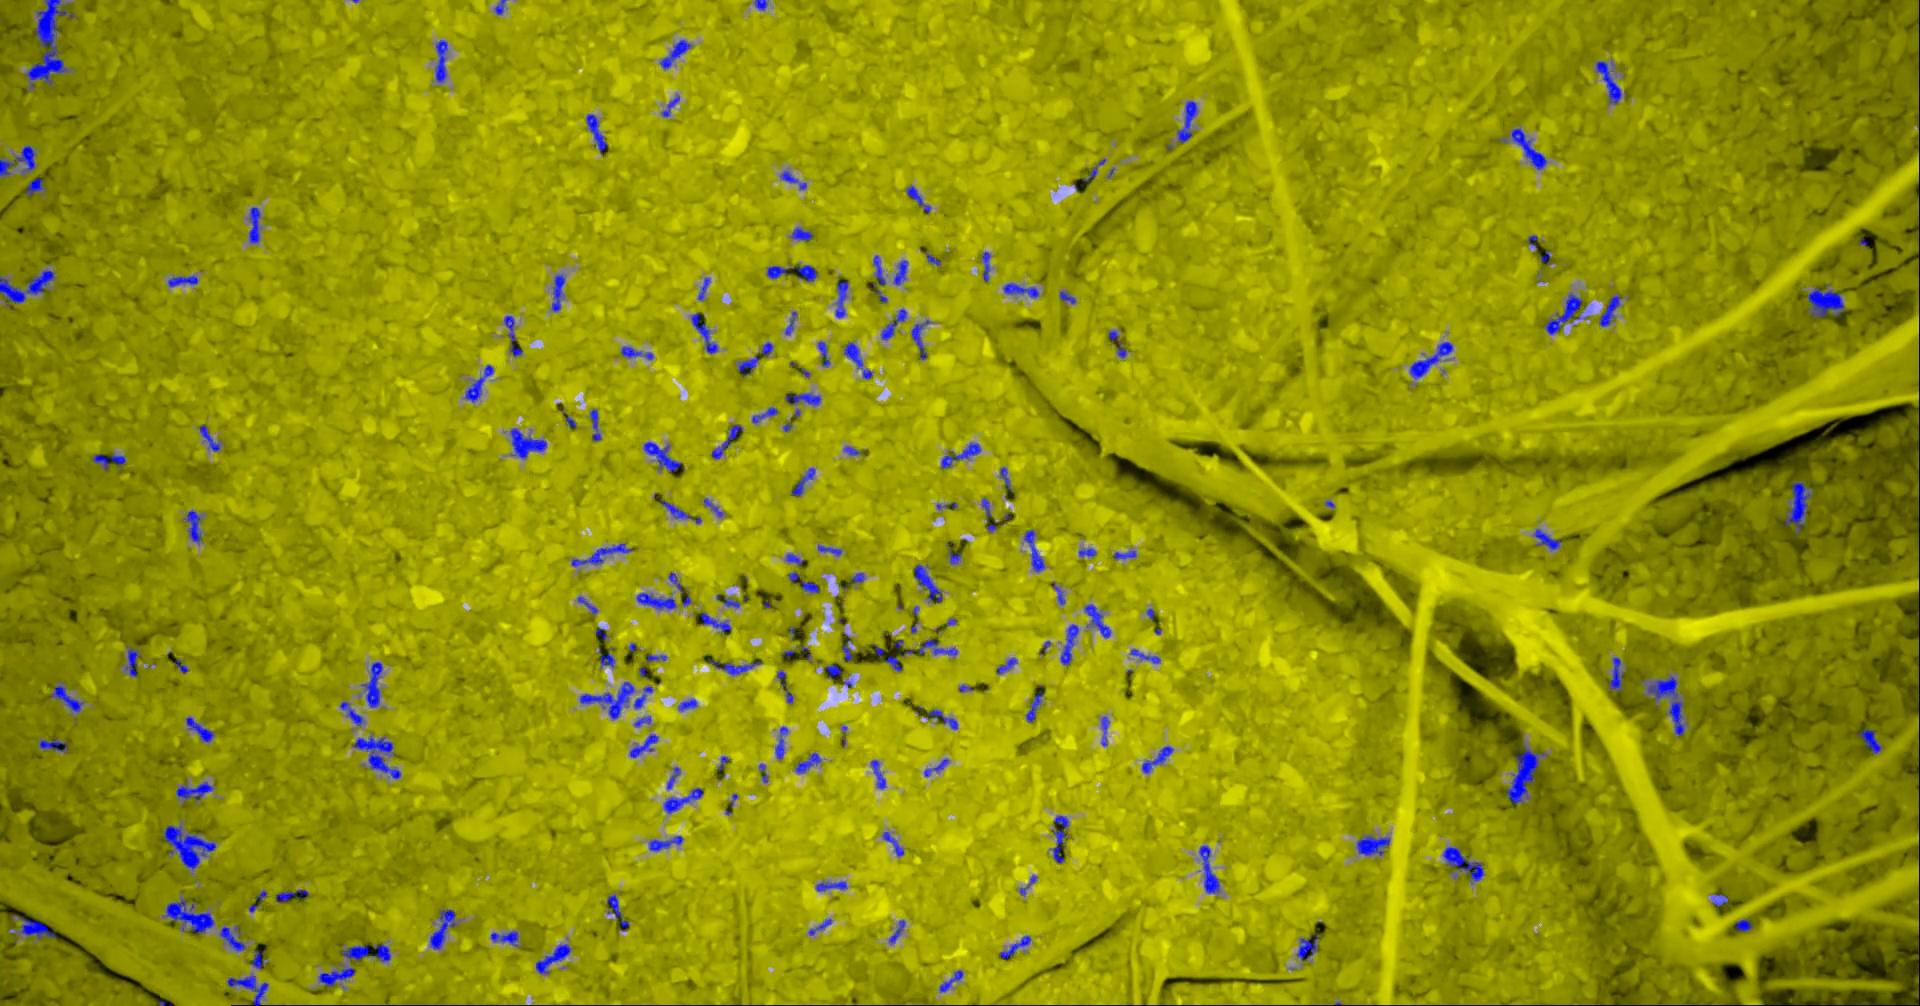ant: (1506, 743, 1544, 805), (1647, 674, 1684, 735), (163, 826, 215, 868), (352, 735, 400, 779), (0, 269, 55, 307), (579, 681, 634, 718), (164, 898, 215, 934), (1410, 340, 1451, 379), (1544, 292, 1581, 334), (1783, 480, 1811, 533), (571, 542, 632, 567), (1511, 127, 1545, 169), (1443, 846, 1483, 880), (1595, 60, 1625, 103), (1806, 285, 1844, 319), (226, 976, 267, 1005), (509, 427, 546, 459), (643, 441, 681, 471), (690, 312, 717, 353), (0, 145, 36, 177), (913, 564, 942, 602), (535, 942, 570, 973), (463, 365, 493, 401), (711, 424, 742, 459), (1197, 845, 1219, 893), (940, 442, 980, 467), (660, 498, 701, 523), (843, 342, 871, 379), (361, 661, 382, 708), (663, 788, 702, 813), (429, 909, 455, 949), (342, 942, 391, 962), (1049, 815, 1068, 862), (659, 39, 690, 69), (1083, 603, 1110, 636), (50, 685, 83, 711), (1177, 100, 1197, 144), (1023, 528, 1044, 572), (1142, 746, 1173, 772), (606, 894, 629, 930), (880, 307, 905, 339), (585, 114, 607, 151), (18, 916, 55, 937), (709, 659, 761, 674), (503, 315, 522, 356), (910, 319, 930, 359), (175, 781, 215, 800), (1060, 622, 1078, 664), (998, 935, 1030, 958), (790, 467, 815, 495), (185, 716, 213, 742), (317, 967, 354, 986), (923, 709, 957, 729), (1599, 295, 1620, 326), (218, 926, 245, 951), (905, 185, 930, 213), (1356, 835, 1389, 855), (700, 612, 730, 634), (636, 592, 676, 608), (918, 639, 957, 655), (787, 572, 819, 592), (629, 734, 657, 757), (1857, 728, 1881, 753), (339, 701, 363, 725), (794, 752, 820, 774), (1297, 934, 1318, 960), (1533, 528, 1561, 549), (648, 835, 682, 851), (434, 39, 447, 83), (91, 453, 124, 470), (184, 509, 201, 542), (1002, 282, 1037, 297), (199, 424, 220, 451), (1608, 657, 1623, 691), (938, 969, 963, 991), (1025, 692, 1043, 721), (883, 831, 903, 856), (780, 170, 806, 189), (1083, 158, 1105, 180), (836, 279, 848, 318), (551, 274, 564, 311), (737, 354, 759, 375), (789, 264, 817, 281), (620, 345, 653, 359), (248, 207, 260, 243), (785, 392, 820, 405), (923, 758, 949, 776), (750, 406, 777, 423), (1130, 649, 1161, 663), (870, 760, 885, 788), (632, 686, 651, 708), (124, 647, 138, 676), (38, 737, 67, 751), (888, 920, 905, 942), (490, 931, 517, 946), (775, 727, 787, 758), (703, 497, 723, 517), (577, 594, 597, 614), (276, 889, 309, 901), (808, 918, 830, 935), (872, 255, 885, 285), (589, 408, 601, 439), (662, 95, 679, 116), (996, 657, 1016, 674), (893, 259, 907, 285), (665, 766, 681, 789), (25, 177, 43, 196), (715, 593, 739, 607), (817, 340, 829, 366), (841, 633, 852, 661), (1051, 580, 1064, 605), (168, 276, 197, 286), (783, 311, 796, 334), (999, 466, 1011, 492), (250, 949, 265, 968), (668, 572, 682, 592), (817, 544, 841, 555), (790, 227, 811, 240), (766, 265, 787, 278), (599, 649, 615, 667), (824, 664, 842, 680), (815, 882, 846, 890), (697, 277, 709, 300), (982, 251, 990, 281), (885, 655, 902, 671), (785, 553, 803, 565), (1101, 716, 1109, 746), (678, 699, 697, 710), (632, 715, 651, 727), (1059, 291, 1076, 304), (1712, 893, 1728, 906), (1735, 918, 1751, 931), (1112, 550, 1135, 559), (761, 340, 772, 356), (949, 549, 960, 564), (494, 0, 505, 14), (850, 572, 863, 583), (645, 653, 665, 661), (1078, 547, 1095, 556), (1539, 250, 1550, 263), (753, 0, 767, 10)
